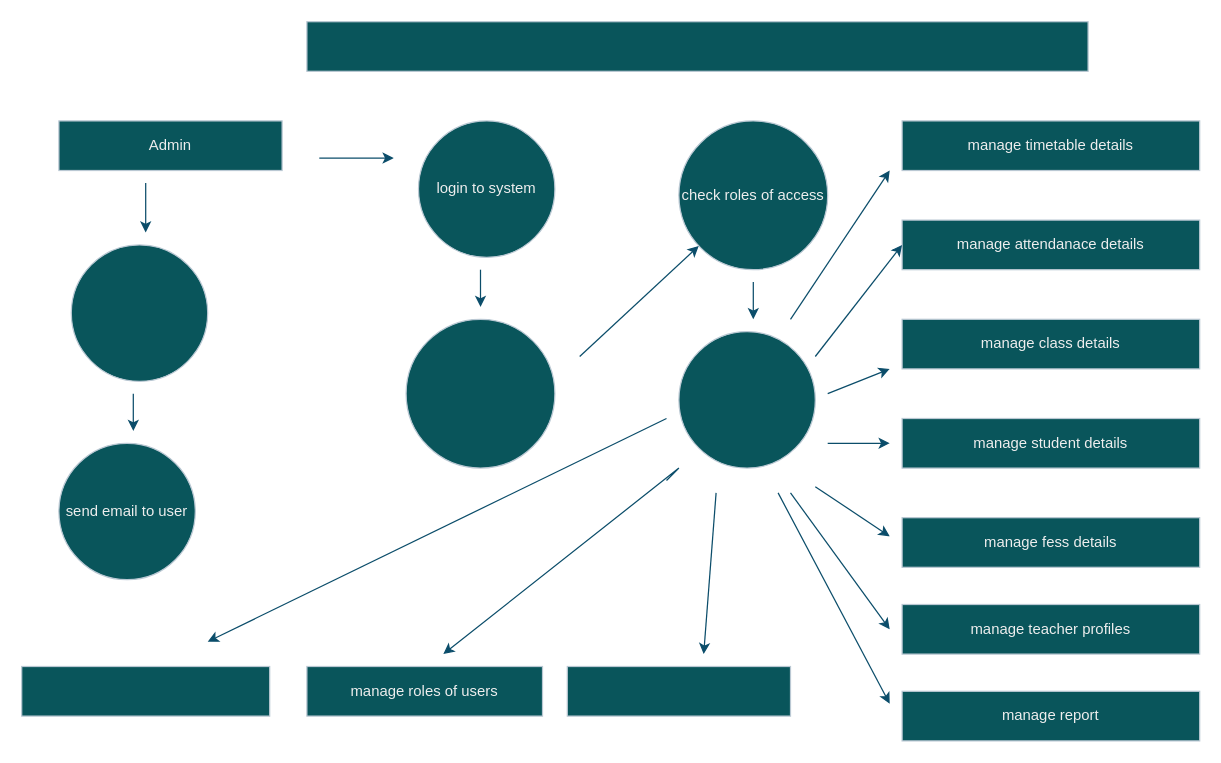
This 1221x763 diagram has some shape labels left out. Here are the shapes that lost their labels. From the top down, the centre of each, then its label:
pixel 697 45: Student Information System
pixel 139 312: forgot password
pixel 480 393: check credentials
pixel 746 399: manage modules
pixel 145 690: manage system admins
pixel 678 690: managae user permission
